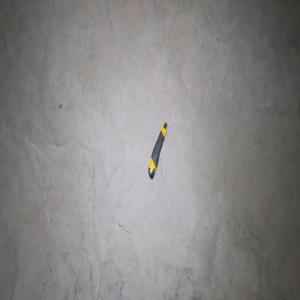Cutter: (148, 122, 167, 180)
